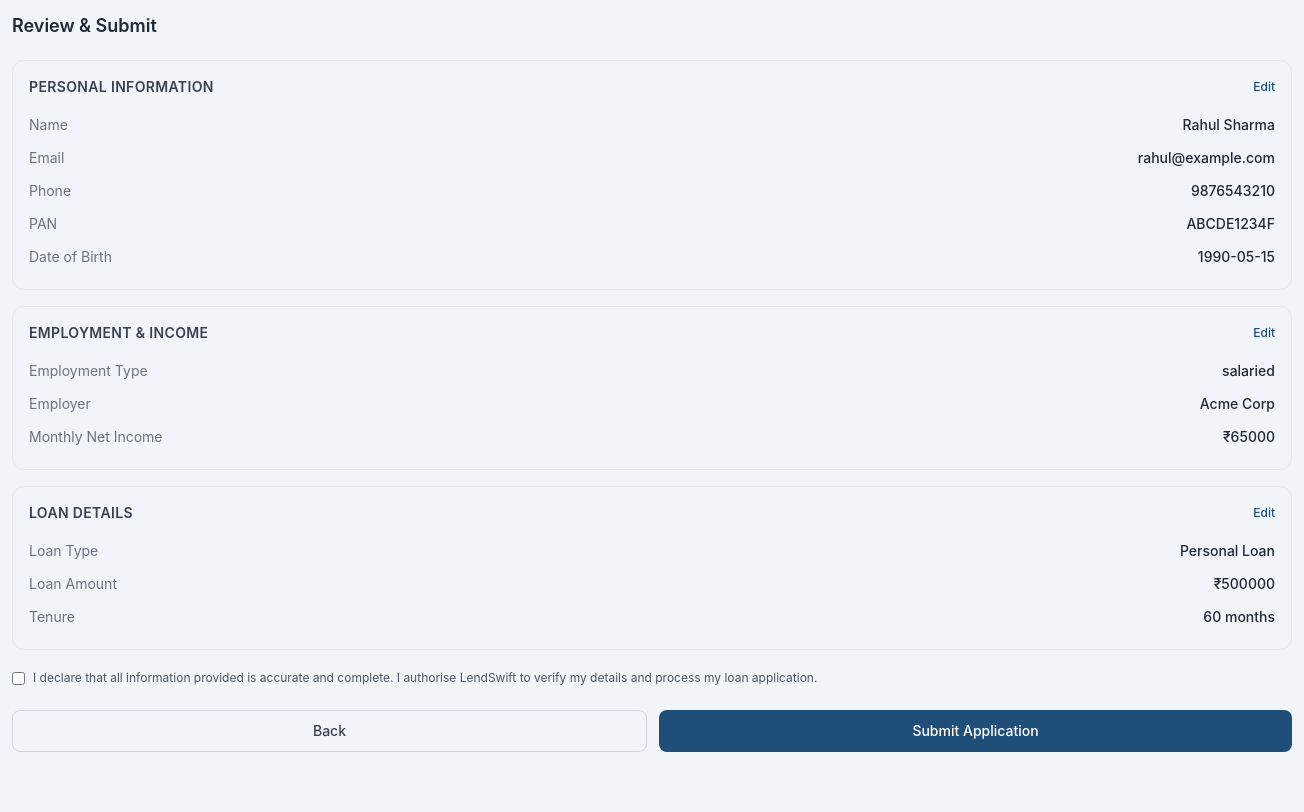
Test: ReviewSubmit component › requires agreement checkbox before submission
This screenshot has width=1304, height=812.
Click the button with test id "submit-btn": (976, 731) [659,710,1292,752]
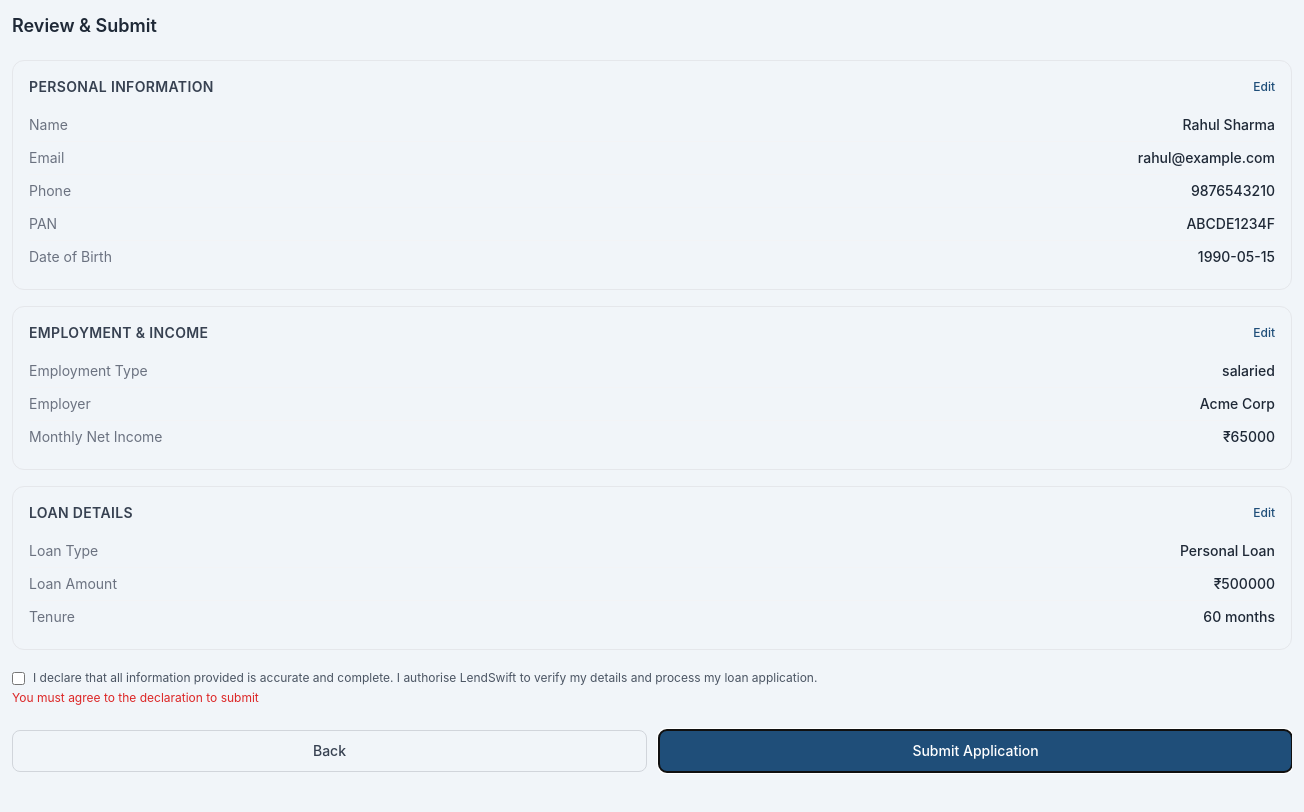
Now the message shows "agree", box [12,690,259,705]
